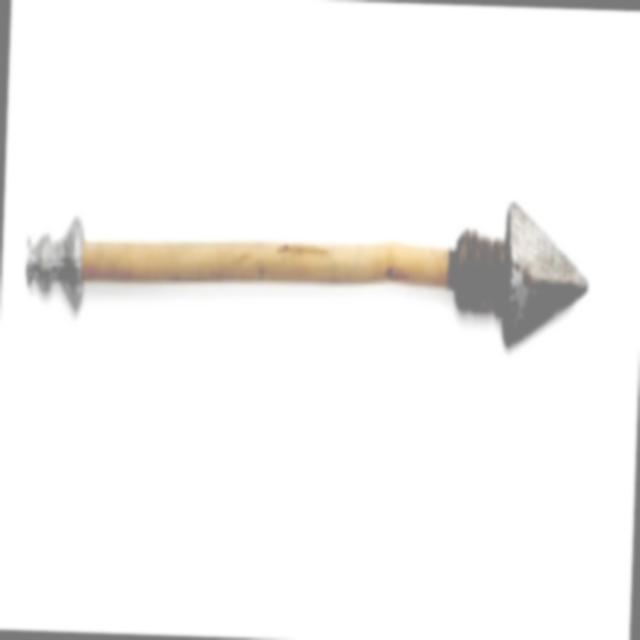spear: (14, 107, 604, 431)
